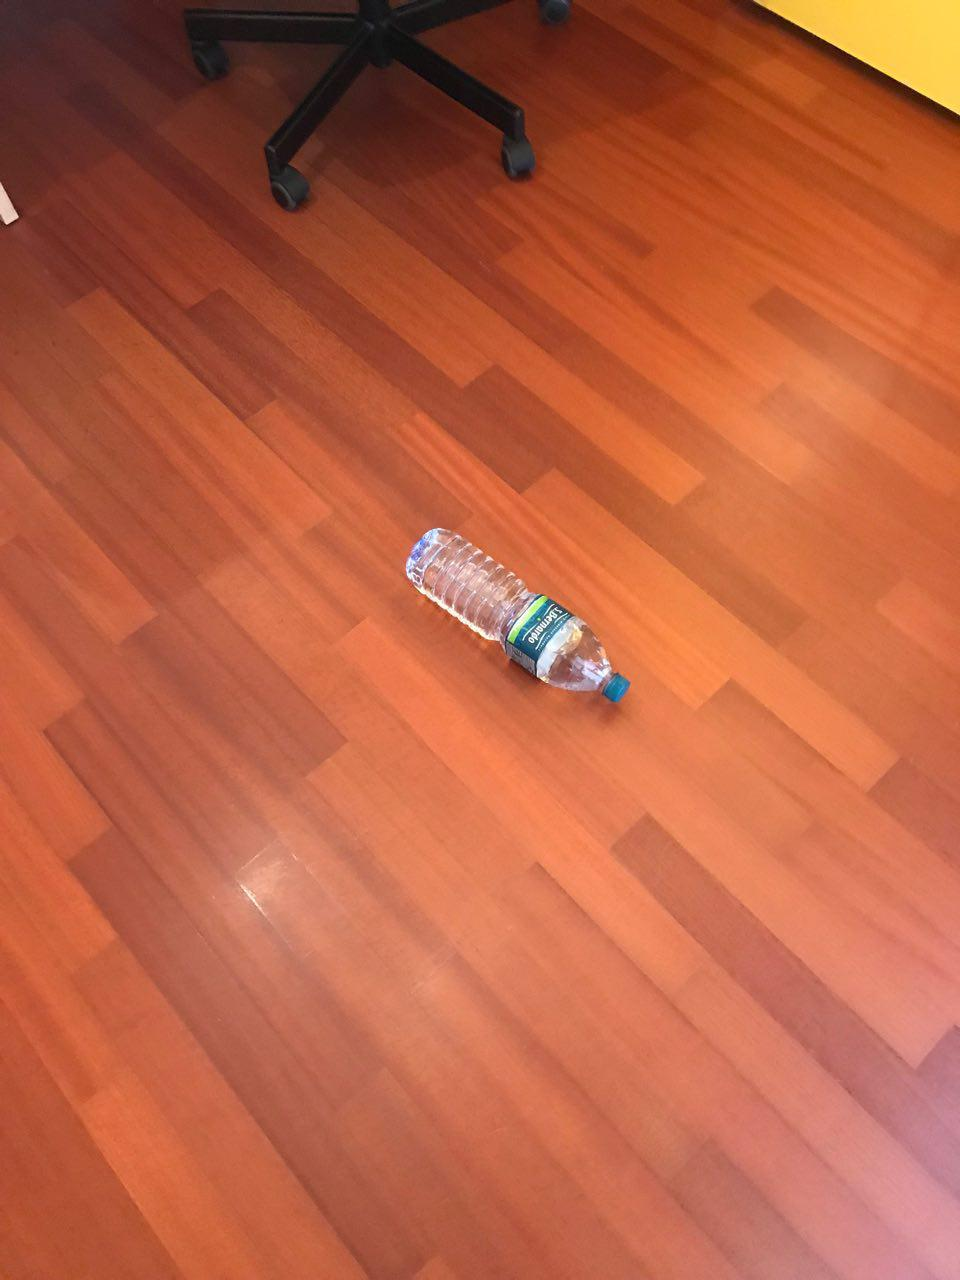san_bernardo: (405, 526, 631, 705)
